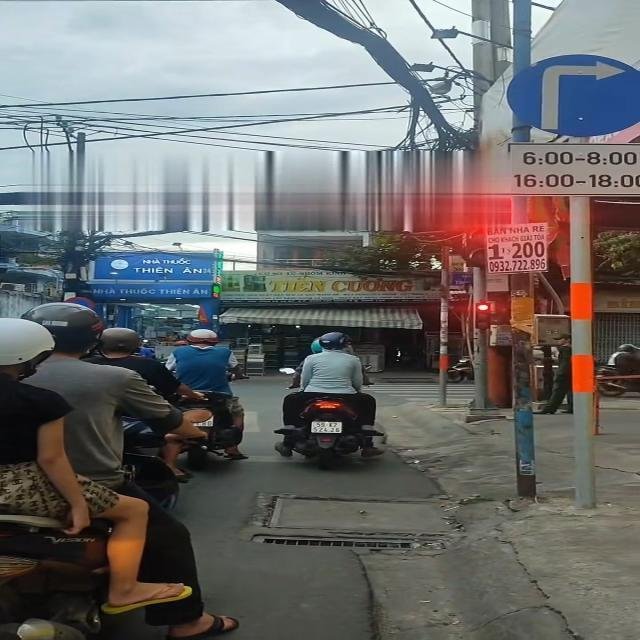301d-cac-xe-chi-duoc-re-phai-2: (506, 54, 640, 136)
